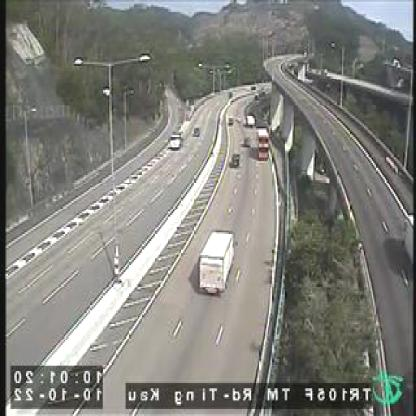Bus: (255, 127, 268, 161)
Car: (168, 133, 180, 148), (229, 153, 239, 165), (242, 135, 251, 148), (245, 112, 253, 126), (193, 126, 201, 136), (228, 115, 233, 124)
Truck: (196, 226, 236, 296)
